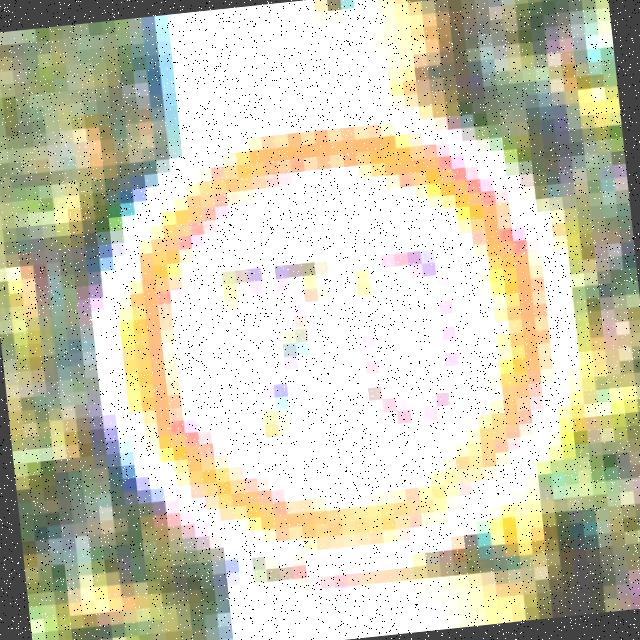Ograniczenie predkosci do 70: (78, 96, 580, 583)
